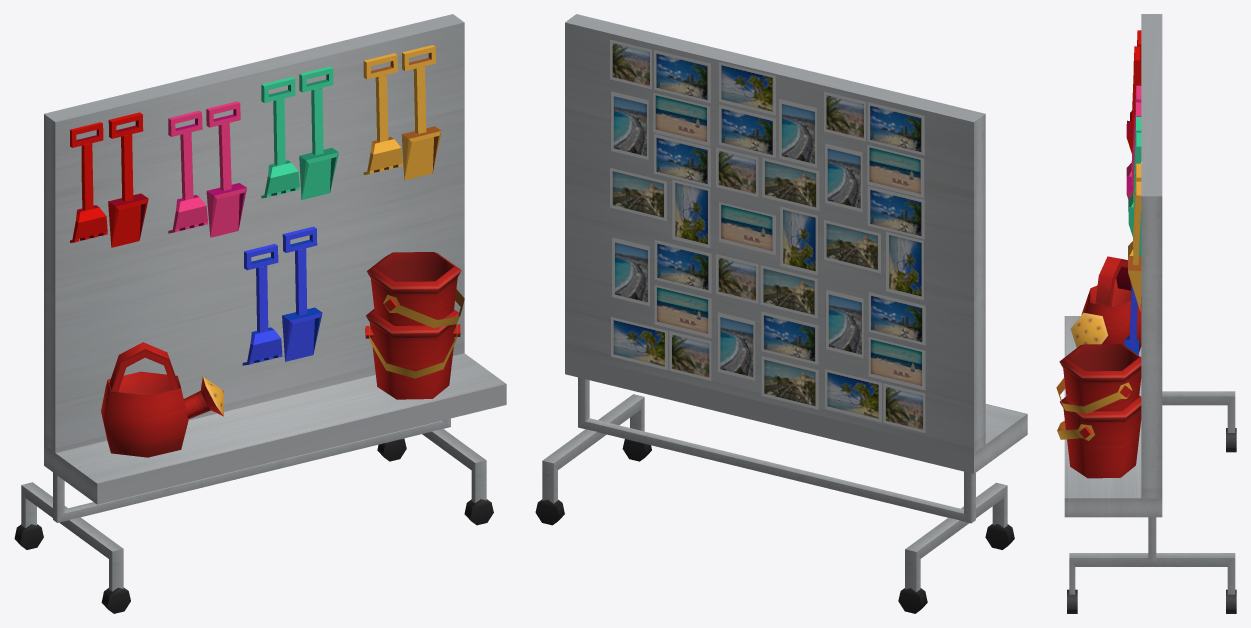
The model's file is Toy_Rack_01.FBX.
3 renders of one model, left to right at view 1: azimuth 30°, elevation 25°; view 2: azimuth 150°, elevation 25°; view 3: azimuth 270°, elevation 25°, orthographic. The views are drawn at different scales.
Visible parts, largest first — view 1: Toy_Rack_01; view 2: Toy_Rack_01; view 3: Toy_Rack_01.
Part boxes in pixels (box(x1,y1,x2,y2)): Toy_Rack_01: box(14, 14, 506, 613); Toy_Rack_01: box(535, 14, 1027, 613); Toy_Rack_01: box(1056, 14, 1236, 613).
Bounding box in the file's own units: 0.4161 × 0.4531 × 0.174.
